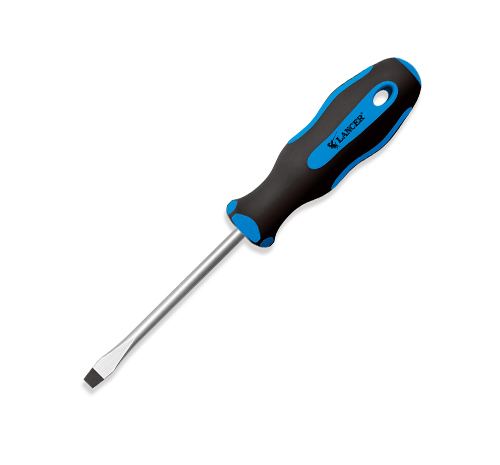screwdriver: (79, 57, 424, 392)
